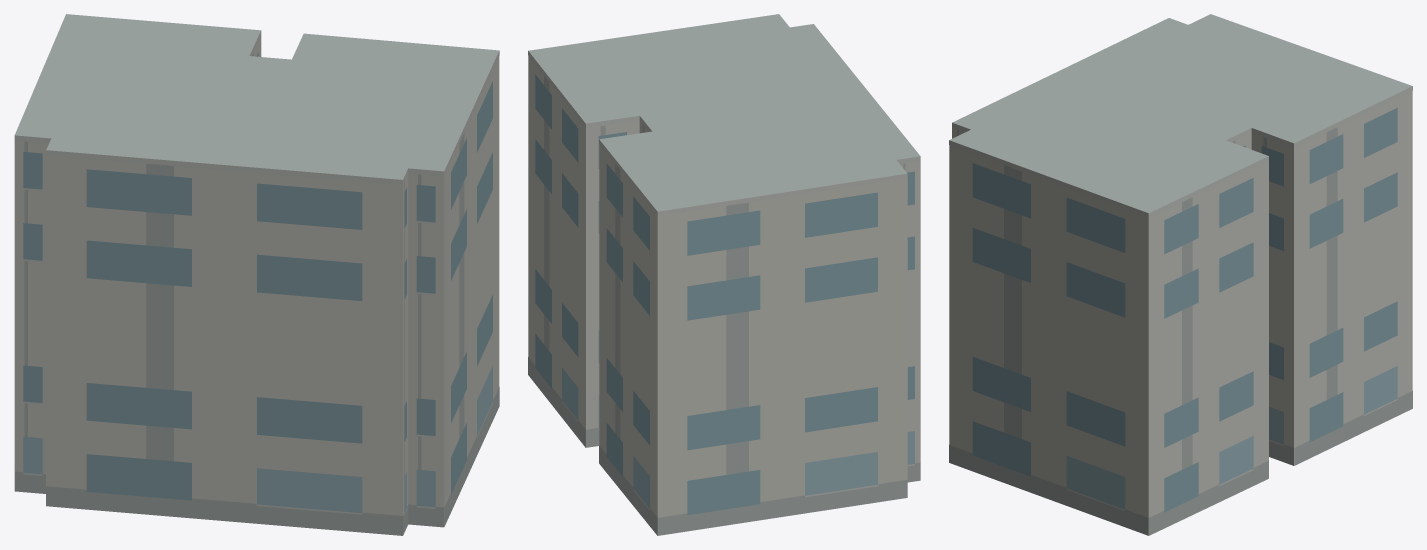
Rendered from survey-upis-32842811.glb.
3 views of the same model, side by side, from view 1: azimuth 30°, elevation 25°; view 2: azimuth 150°, elevation 25°; view 3: azimuth 270°, elevation 25° (orthographic). The views are drawn at different scales.
Visible parts, largest first — view 1: survey-upis-32842811.tmp; view 2: survey-upis-32842811.tmp; view 3: survey-upis-32842811.tmp.
Part boxes in pixels (bbox=[...]): survey-upis-32842811.tmp: bbox=[14, 14, 499, 535]; survey-upis-32842811.tmp: bbox=[528, 14, 920, 535]; survey-upis-32842811.tmp: bbox=[949, 14, 1412, 535].
Bounding box in the file's own units: 22.13 × 16.7 × 21.75.
